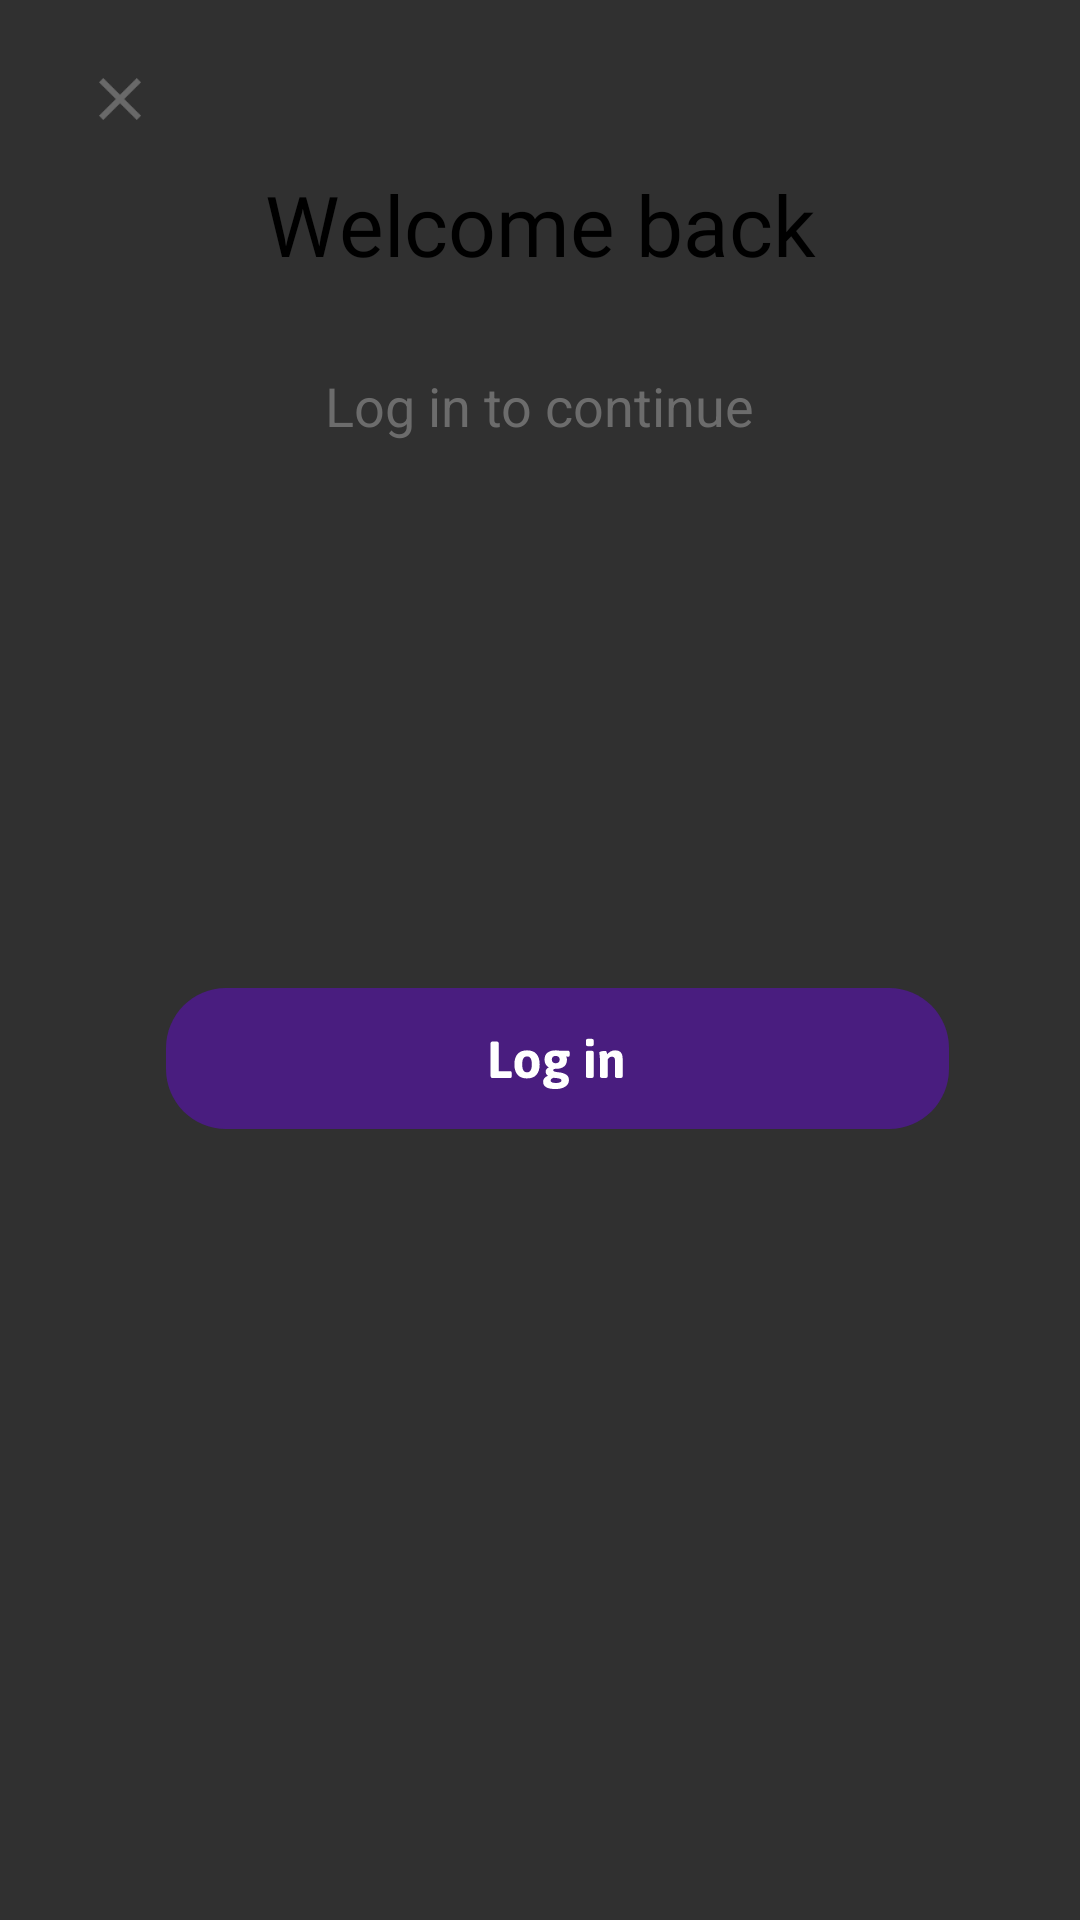

Locate icon controls on the screen. Image size 1080px x 1920px, boxes as (x1,y1,x2,y2).
close: (99,78,141,120)
